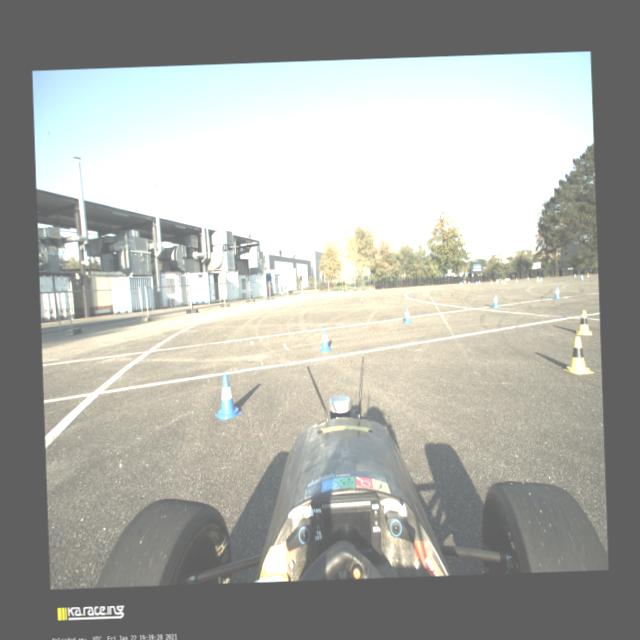blue_cone: (212, 374, 242, 421), (318, 328, 331, 352), (402, 306, 411, 322), (490, 294, 500, 308), (552, 286, 562, 300), (580, 274, 584, 280), (540, 277, 542, 282), (502, 280, 504, 284), (476, 280, 478, 284), (460, 280, 462, 284), (574, 273, 576, 277), (527, 276, 528, 280), (479, 280, 480, 283), (468, 282, 469, 284), (460, 282, 460, 284)
yellow_cone: (564, 336, 594, 376), (574, 308, 592, 336), (536, 278, 539, 282), (504, 278, 506, 284), (536, 275, 538, 280), (495, 278, 497, 283), (490, 279, 492, 284), (586, 272, 588, 276), (515, 277, 517, 281)
